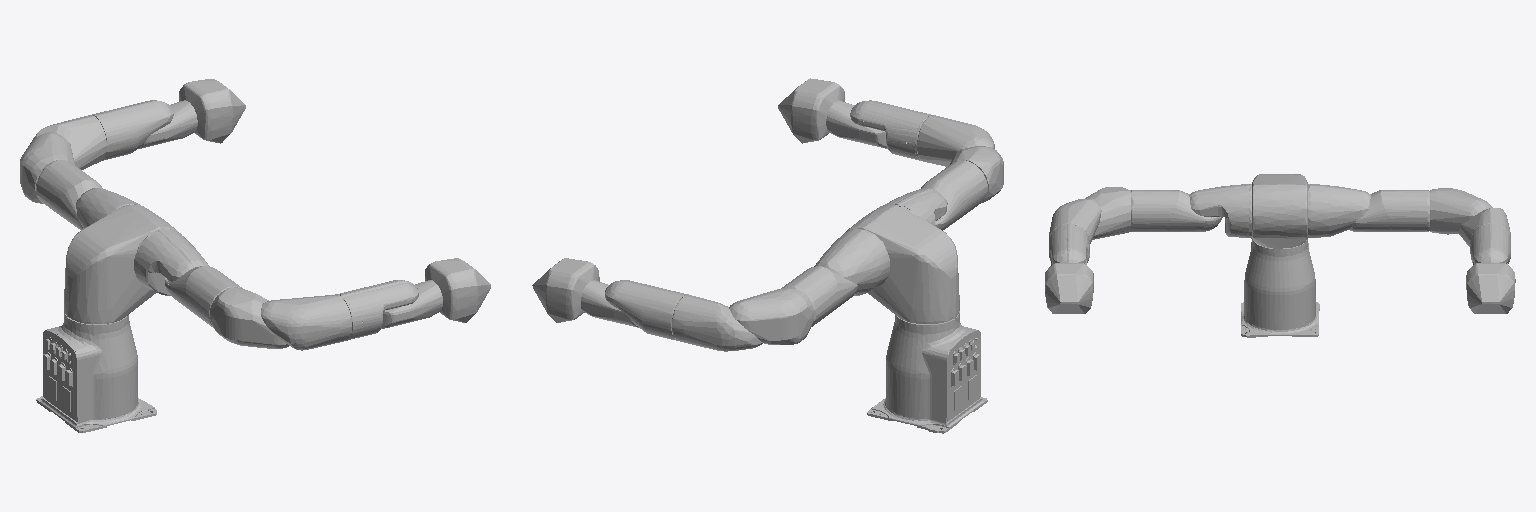
robot.urdf — motoman_bmda3_w_effs:
<?xml version="1.0" ?>
<!-- =================================================================================== -->
<!-- |    This document was autogenerated by xacro from bmda3_w_effs.xacro             | -->
<!-- |    EDITING THIS FILE BY HAND IS NOT RECOMMENDED                                 | -->
<!-- =================================================================================== -->
<robot name="motoman_bmda3_w_effs" xmlns:xacro="http://ros.org/wiki/xacro">
  <link name="base_link">
    <origin rpy="0 0 0" xyz="0 0 0"/>
  </link>
  <link name="base">
    <visual>
      <origin rpy="0 0 0" xyz="0 0 0"/>
      <geometry>
        <mesh filename="package://motoman_bmda3_support/meshes/bmda3/visual/base.stl"/>
      </geometry>
      <material name="">
        <color rgba="0.75294 0.75294 0.75294 1"/>
      </material>
    </visual>
    <collision>
      <origin rpy="0 0 0" xyz="0 0 0"/>
      <geometry>
        <mesh filename="package://motoman_bmda3_support/meshes/bmda3/collision/base.stl"/>
      </geometry>
    </collision>
  </link>
  <link name="torso_link_b1">
    <visual>
      <origin rpy="0 0 0" xyz="0 0 0"/>
      <geometry>
        <mesh filename="package://motoman_bmda3_support/meshes/bmda3/visual/torso_link.stl"/>
      </geometry>
      <material name="">
        <color rgba="0.75294 0.75294 0.75294 1"/>
      </material>
    </visual>
    <collision>
      <origin rpy="0 0 0" xyz="0 0 0"/>
      <geometry>
        <mesh filename="package://motoman_bmda3_support/meshes/bmda3/collision/torso_link.stl"/>
      </geometry>
    </collision>
  </link>
  <link name="right_link_l">
    <visual>
      <origin rpy="0 0 0" xyz="0 0 0"/>
      <geometry>
        <mesh filename="package://motoman_bmda3_support/meshes/bmda3/visual/right_link_l.stl"/>
      </geometry>
      <material name="">
        <color rgba="0.75294 0.75294 0.75294 1"/>
      </material>
    </visual>
    <collision>
      <origin rpy="0 0 0" xyz="0 0 0"/>
      <geometry>
        <mesh filename="package://motoman_bmda3_support/meshes/bmda3/collision/right_link_l.stl"/>
      </geometry>
    </collision>
  </link>
  <link name="right_link_e">
    <visual>
      <origin rpy="0 0 0" xyz="0 0 0"/>
      <geometry>
        <mesh filename="package://motoman_bmda3_support/meshes/bmda3/visual/right_link_e.stl"/>
      </geometry>
      <material name="">
        <color rgba="0.75294 0.75294 0.75294 1"/>
      </material>
    </visual>
    <collision>
      <origin rpy="0 0 0" xyz="0 0 0"/>
      <geometry>
        <mesh filename="package://motoman_bmda3_support/meshes/bmda3/collision/right_link_e.stl"/>
      </geometry>
    </collision>
  </link>
  <link name="right_link_u">
    <visual>
      <origin rpy="0 0 0" xyz="0 0 0"/>
      <geometry>
        <mesh filename="package://motoman_bmda3_support/meshes/bmda3/visual/right_link_u.stl"/>
      </geometry>
      <material name="">
        <color rgba="0.752941176470588 0.752941176470588 0.752941176470588 1"/>
      </material>
    </visual>
    <collision>
      <origin rpy="0 0 0" xyz="0 0 0"/>
      <geometry>
        <mesh filename="package://motoman_bmda3_support/meshes/bmda3/collision/right_link_u.stl"/>
      </geometry>
    </collision>
  </link>
  <link name="right_link_r">
    <visual>
      <origin rpy="0 0 0" xyz="0 0 0"/>
      <geometry>
        <mesh filename="package://motoman_bmda3_support/meshes/bmda3/visual/right_link_r.stl"/>
      </geometry>
      <material name="">
        <color rgba="0.752941176470588 0.752941176470588 0.752941176470588 1"/>
      </material>
    </visual>
    <collision>
      <origin rpy="0 0 0" xyz="0 0 0"/>
      <geometry>
        <mesh filename="package://motoman_bmda3_support/meshes/bmda3/collision/right_link_r.stl"/>
      </geometry>
    </collision>
  </link>
  <link name="right_link_b">
    <visual>
      <origin rpy="0 0 0" xyz="0 0 0"/>
      <geometry>
        <mesh filename="package://motoman_bmda3_support/meshes/bmda3/visual/right_link_b.stl"/>
      </geometry>
      <material name="">
        <color rgba="0.752941176470588 0.752941176470588 0.752941176470588 1"/>
      </material>
    </visual>
    <collision>
      <origin rpy="0 0 0" xyz="0 0 0"/>
      <geometry>
        <mesh filename="package://motoman_bmda3_support/meshes/bmda3/collision/right_link_b.stl"/>
      </geometry>
    </collision>
  </link>
  <link name="right_link_t">
    <visual>
      <origin rpy="0 0 0" xyz="0 0 0"/>
      <geometry>
        <mesh filename="package://motoman_bmda3_support/meshes/bmda3/visual/right_link_t.stl"/>
      </geometry>
      <material name="">
        <color rgba="0.752941176470588 0.752941176470588 0.752941176470588 1"/>
      </material>
    </visual>
    <collision>
      <origin rpy="0 0 0" xyz="0 0 0"/>
      <geometry>
        <mesh filename="package://motoman_bmda3_support/meshes/bmda3/collision/right_link_t.stl"/>
      </geometry>
    </collision>
  </link>
  <link name="right_tool0"/>
  <link name="torso_link_b2">
    <visual>
      <origin rpy="0 0 0" xyz="0 0 0"/>
      <geometry>
        <mesh filename="package://motoman_bmda3_support/meshes/bmda3/visual/torso_link.stl"/>
      </geometry>
      <material name="">
        <color rgba="0.75294 0.75294 0.75294 1"/>
      </material>
    </visual>
    <collision>
      <origin rpy="0 0 0" xyz="0 0 0"/>
      <geometry>
        <mesh filename="package://motoman_bmda3_support/meshes/bmda3/collision/torso_link.stl"/>
      </geometry>
    </collision>
  </link>
  <link name="left_link_l">
    <visual>
      <origin rpy="0 0 0" xyz="0 0 0"/>
      <geometry>
        <mesh filename="package://motoman_bmda3_support/meshes/bmda3/visual/left_link_l.stl"/>
      </geometry>
      <material name="">
        <color rgba="0.752941176470588 0.752941176470588 0.752941176470588 1"/>
      </material>
    </visual>
    <collision>
      <origin rpy="0 0 0" xyz="0 0 0"/>
      <geometry>
        <mesh filename="package://motoman_bmda3_support/meshes/bmda3/collision/left_link_l.stl"/>
      </geometry>
    </collision>
  </link>
  <link name="left_link_e">
    <visual>
      <origin rpy="0 0 0" xyz="0 0 0"/>
      <geometry>
        <mesh filename="package://motoman_bmda3_support/meshes/bmda3/visual/left_link_e.stl"/>
      </geometry>
      <material name="">
        <color rgba="0.752941176470588 0.752941176470588 0.752941176470588 1"/>
      </material>
    </visual>
    <collision>
      <origin rpy="0 0 0" xyz="0 0 0"/>
      <geometry>
        <mesh filename="package://motoman_bmda3_support/meshes/bmda3/collision/left_link_e.stl"/>
      </geometry>
    </collision>
  </link>
  <link name="left_link_u">
    <visual>
      <origin rpy="0 0 0" xyz="0 0 0"/>
      <geometry>
        <mesh filename="package://motoman_bmda3_support/meshes/bmda3/visual/left_link_u.stl"/>
      </geometry>
      <material name="">
        <color rgba="0.752941176470588 0.752941176470588 0.752941176470588 1"/>
      </material>
    </visual>
    <collision>
      <origin rpy="0 0 0" xyz="0 0 0"/>
      <geometry>
        <mesh filename="package://motoman_bmda3_support/meshes/bmda3/collision/left_link_u.stl"/>
      </geometry>
    </collision>
  </link>
  <link name="left_link_r">
    <visual>
      <origin rpy="0 0 0" xyz="0 0 0"/>
      <geometry>
        <mesh filename="package://motoman_bmda3_support/meshes/bmda3/visual/left_link_r.stl"/>
      </geometry>
      <material name="">
        <color rgba="0.752941176470588 0.752941176470588 0.752941176470588 1"/>
      </material>
    </visual>
    <collision>
      <origin rpy="0 0 0" xyz="0 0 0"/>
      <geometry>
        <mesh filename="package://motoman_bmda3_support/meshes/bmda3/collision/left_link_r.stl"/>
      </geometry>
    </collision>
  </link>
  <link name="left_link_b">
    <visual>
      <origin rpy="0 0 0" xyz="0 0 0"/>
      <geometry>
        <mesh filename="package://motoman_bmda3_support/meshes/bmda3/visual/left_link_b.stl"/>
      </geometry>
      <material name="">
        <color rgba="0.752941176470588 0.752941176470588 0.752941176470588 1"/>
      </material>
    </visual>
    <collision>
      <origin rpy="0 0 0" xyz="0 0 0"/>
      <geometry>
        <mesh filename="package://motoman_bmda3_support/meshes/bmda3/collision/left_link_b.stl"/>
      </geometry>
    </collision>
  </link>
  <link name="left_link_t">
    <visual>
      <origin rpy="0 0 0" xyz="0 0 0"/>
      <geometry>
        <mesh filename="package://motoman_bmda3_support/meshes/bmda3/visual/left_link_t.stl"/>
      </geometry>
      <material name="">
        <color rgba="0.752941176470588 0.752941176470588 0.752941176470588 1"/>
      </material>
    </visual>
    <collision>
      <origin rpy="0 0 0" xyz="0 0 0"/>
      <geometry>
        <mesh filename="package://motoman_bmda3_support/meshes/bmda3/collision/left_link_t.stl"/>
      </geometry>
    </collision>
  </link>
  <link name="left_tool0"/>
  <joint name="base_link-base" type="fixed">
    <origin rpy="0 0 0" xyz="0 0 0"/>
    <parent link="base_link"/>
    <child link="base"/>
  </joint>
  <joint name="torso_joint_b1" type="revolute">
    <parent link="base"/>
    <child link="torso_link_b1"/>
    <origin rpy="0 0 0" xyz="0 0 0.3305"/>
    <axis xyz="0 0 1"/>
    <limit effort="0" lower="-3.1415" upper="3.1415" velocity="2.27"/>
  </joint>
  <joint name="right_joint_s" type="revolute">
    <parent link="torso_link_b1"/>
    <child link="right_link_l"/>
    <origin rpy="0 0 0" xyz="0.15002 -0.099 0.12951"/>
    <axis xyz="0 1 0"/>
    <limit effort="0" lower="-1.570" upper="3.1415" velocity="2.97"/>
  </joint>
  <joint name="right_joint_l" type="revolute">
    <parent link="right_link_l"/>
    <child link="right_link_e"/>
    <origin rpy="0 0 0" xyz="0 -0.151 0"/>
    <axis xyz="0 0 1"/>
    <limit effort="0" lower="-1.745" upper="1.745" velocity="2.62"/>
  </joint>
  <joint name="right_joint_e" type="revolute">
    <parent link="right_link_e"/>
    <child link="right_link_u"/>
    <origin rpy="0 0 0" xyz="0 -0.23549999999989 0"/>
    <axis xyz="0 1 0"/>
    <limit effort="0" lower="-2.966" upper="2.966" velocity="2.97"/>
  </joint>
  <joint name="right_joint_u" type="revolute">
    <parent link="right_link_u"/>
    <child link="right_link_r"/>
    <origin rpy="0 0 0" xyz="0.065002 -0.1445 0"/>
    <axis xyz="0 0 -1"/>
    <limit effort="0" lower="-1.396" upper="0.7504" velocity="2.97"/>
  </joint>
  <joint name="right_joint_r" type="revolute">
    <parent link="right_link_r"/>
    <child link="right_link_b"/>
    <origin rpy="0 0 0" xyz="0.35997 -0.05 0"/>
    <axis xyz="1 0 0"/>
    <limit effort="0" lower="-3.1415" upper="3.1415" velocity="3.49"/>
  </joint>
  <joint name="right_joint_b" type="revolute">
    <parent link="right_link_b"/>
    <child link="right_link_t"/>
    <origin rpy="0 0 0" xyz="0 0 0"/>
    <axis xyz="0 0 -1"/>
    <limit effort="0" lower="-1.9198" upper="1.9198" velocity="3.49"/>
  </joint>
  <joint name="right_joint_t" type="revolute">
    <parent link="right_link_t"/>
    <child link="right_tool0"/>
    <origin rpy="0 0 0" xyz="0.138 0 0"/>
    <axis xyz="1 0 0"/>
    <limit effort="0" lower="-4.712" upper="4.712" velocity="6.11"/>
  </joint>
  <joint name="torso_joint_b2" type="revolute">
    <parent link="base"/>
    <child link="torso_link_b2"/>
    <origin rpy="0 0 0" xyz="0 0 0.3305"/>
    <axis xyz="0 0 1"/>
    <limit effort="0" lower="-3.1415" upper="3.1415" velocity="2.27"/>
  </joint>
  <joint name="left_joint_s" type="revolute">
    <parent link="torso_link_b1"/>
    <child link="left_link_l"/>
    <origin rpy="0 0 0" xyz="0.15003 0.099 0.1295"/>
    <axis xyz="0 1 0"/>
    <limit effort="0" lower="-1.570" upper="3.1415" velocity="2.97"/>
  </joint>
  <joint name="left_joint_l" type="revolute">
    <parent link="left_link_l"/>
    <child link="left_link_e"/>
    <origin rpy="0 0 0" xyz="0 0.151 0"/>
    <axis xyz="0 0 -1"/>
    <limit effort="0" lower="-1.745" upper="1.745" velocity="2.62"/>
  </joint>
  <joint name="left_joint_e" type="revolute">
    <parent link="left_link_e"/>
    <child link="left_link_u"/>
    <origin rpy="0 0 0" xyz="0 0.23549999999989 0"/>
    <axis xyz="0 1 0"/>
    <limit effort="0" lower="-2.966" upper="2.966" velocity="2.97"/>
  </joint>
  <joint name="left_joint_u" type="revolute">
    <parent link="left_link_u"/>
    <child link="left_link_r"/>
    <origin rpy="0 0 0" xyz="0.065 0.1445 0"/>
    <axis xyz="0 0 1"/>
    <limit effort="0" lower="-1.396" upper="0.7504" velocity="2.97"/>
  </joint>
  <joint name="left_joint_r" type="revolute">
    <parent link="left_link_r"/>
    <child link="left_link_b"/>
    <origin rpy="0 0 0" xyz="0.35997 0.05 0"/>
    <axis xyz="-1 0 0"/>
    <limit effort="0" lower="-3.1415" upper="3.1415" velocity="3.49"/>
  </joint>
  <joint name="left_joint_b" type="revolute">
    <parent link="left_link_b"/>
    <child link="left_link_t"/>
    <origin rpy="0 0 0" xyz="0 0 0"/>
    <axis xyz="0 0 1"/>
    <limit effort="0" lower="-1.9198" upper="1.9198" velocity="3.49"/>
  </joint>
  <joint name="left_joint_t" type="revolute">
    <parent link="left_link_t"/>
    <child link="left_tool0"/>
    <origin rpy="0 0 0" xyz="0.138 0 0"/>
    <axis xyz="-1 0 0"/>
    <limit effort="0" lower="-4.712" upper="4.712" velocity="6.11"/>
  </joint>
  <link name="right_eff">
    <visual>
      <origin rpy="0 0 0" xyz="0 0 0"/>
      <geometry>
        <mesh filename="package://motoman_bmda3_support/meshes/bmda3/visual/eff.stl"/>
      </geometry>
      <material name="">
        <color rgba="0.752941176470588 0.752941176470588 0.752941176470588 1"/>
      </material>
    </visual>
    <collision>
      <origin rpy="0 0 0" xyz="0 0 0"/>
      <geometry>
        <mesh filename="package://motoman_bmda3_support/meshes/bmda3/collision/eff.stl"/>
      </geometry>
    </collision>
  </link>
  <link name="left_eff">
    <visual>
      <origin rpy="0 0 0" xyz="0 0 0"/>
      <geometry>
        <mesh filename="package://motoman_bmda3_support/meshes/bmda3/visual/eff.stl"/>
      </geometry>
      <material name="">
        <color rgba="0.752941176470588 0.752941176470588 0.752941176470588 1"/>
      </material>
    </visual>
    <collision>
      <origin rpy="0 0 0" xyz="0 0 0"/>
      <geometry>
        <mesh filename="package://motoman_bmda3_support/meshes/bmda3/collision/eff.stl"/>
      </geometry>
    </collision>
  </link>
  <joint name="left_eff" type="fixed">
    <parent link="left_tool0"/>
    <child link="left_eff"/>
    <origin rpy="0 0 0" xyz="0 0 0"/>
    <axis xyz="0 0 1"/>
  </joint>
  <joint name="right_eff" type="fixed">
    <parent link="right_tool0"/>
    <child link="right_eff"/>
    <origin rpy="0 0 0" xyz="0 0 0"/>
    <axis xyz="0 0 1"/>
  </joint>
</robot>

--- Facts derived from the render (not from the file) ---
The picture shows the robot from 3 angles, left to right: view 1: azimuth 30°, elevation 25°; view 2: azimuth 150°, elevation 25°; view 3: azimuth 270°, elevation 25°; orthographic projection.
Model motoman_bmda3_w_effs with 20 links and 19 joints (16 revolute, 3 fixed), rooted at base_link, posed every joint at zero.
Visible links, largest first — view 1: base, torso_link_b1, right_link_r, right_link_u, right_link_l, left_link_b, left_eff, right_eff, right_link_b, left_link_e, right_link_e, left_link_r (+4 smaller); view 2: base, torso_link_b1, left_link_u, left_link_r, left_link_l, left_link_b, left_eff, right_eff, right_link_b, right_link_e, right_link_r, left_link_e (+4 smaller); view 3: base, torso_link_b1, right_link_e, left_link_e, left_link_l, right_link_l, left_eff, right_eff, left_link_u, right_link_u, left_link_b, right_link_b (+2 smaller).
Boxes of the visible links, x1,y1,x2,y2 form: base: [36, 313, 156, 432]; torso_link_b1: [64, 204, 181, 324]; right_link_r: [261, 295, 351, 350]; right_link_u: [210, 287, 288, 348]; right_link_l: [134, 229, 209, 295]; left_link_b: [92, 100, 173, 160]; left_eff: [179, 79, 245, 143]; right_eff: [425, 258, 490, 322]; right_link_b: [335, 280, 418, 340]; left_link_e: [36, 160, 102, 230]; right_link_e: [165, 266, 241, 326]; left_link_r: [32, 115, 106, 169]; base: [867, 311, 987, 433]; torso_link_b1: [846, 205, 959, 323]; left_link_u: [729, 287, 813, 344]; left_link_r: [671, 294, 762, 351]; left_link_l: [814, 229, 889, 295]; left_link_b: [605, 280, 687, 340]; left_eff: [532, 258, 599, 322]; right_eff: [778, 78, 844, 143]; right_link_b: [850, 100, 931, 160]; right_link_e: [921, 160, 987, 230]; right_link_r: [917, 115, 994, 166]; left_link_e: [782, 266, 857, 326]; base: [1241, 239, 1319, 337]; torso_link_b1: [1252, 174, 1307, 248]; right_link_e: [1131, 190, 1222, 231]; left_link_e: [1349, 190, 1429, 231]; left_link_l: [1308, 184, 1370, 237]; right_link_l: [1189, 184, 1251, 238]; left_eff: [1466, 263, 1515, 313]; right_eff: [1045, 263, 1093, 313]; left_link_u: [1430, 188, 1492, 234]; right_link_u: [1086, 187, 1130, 239]; left_link_b: [1470, 223, 1510, 263]; right_link_b: [1049, 223, 1089, 263].
Bounding box of the posed robot: 0.9847 × 1.52 × 0.5547 m (x, y, z).
17 mesh visuals loaded from 15 distinct referenced files (15 binary STL).
